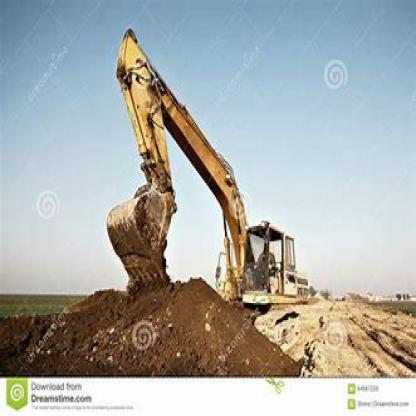excavator: (98, 20, 309, 342)
